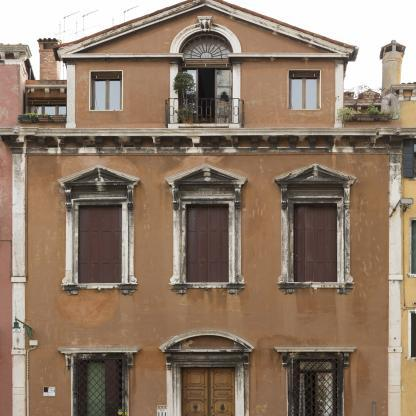Balcony: (165, 98, 245, 128)
Blind: (78, 205, 122, 283), (185, 204, 229, 282), (294, 203, 337, 282)
Building Outline: (0, 0, 416, 416)
Cornice: (57, 0, 354, 58), (159, 330, 256, 352), (57, 165, 142, 190), (164, 164, 249, 188), (273, 163, 358, 187), (57, 347, 142, 354), (274, 347, 358, 352)
Deco: (174, 356, 239, 359), (393, 127, 404, 135), (11, 127, 21, 135)
Door: (182, 67, 232, 124)
Facade: (12, 136, 401, 416)
Floor Slab: (12, 308, 401, 316), (13, 128, 402, 136)
Ground Floor: (12, 136, 401, 316), (12, 315, 401, 416)
Molding: (9, 134, 405, 147)
Sill: (61, 283, 139, 297), (168, 282, 246, 296), (277, 282, 355, 295)
Top Floor: (25, 23, 401, 135)
Window: (185, 204, 229, 282), (78, 205, 122, 283), (294, 203, 337, 282), (182, 367, 235, 416), (78, 358, 122, 416), (293, 359, 337, 416), (179, 30, 234, 60), (91, 71, 122, 110), (289, 70, 320, 109), (29, 104, 66, 116)
